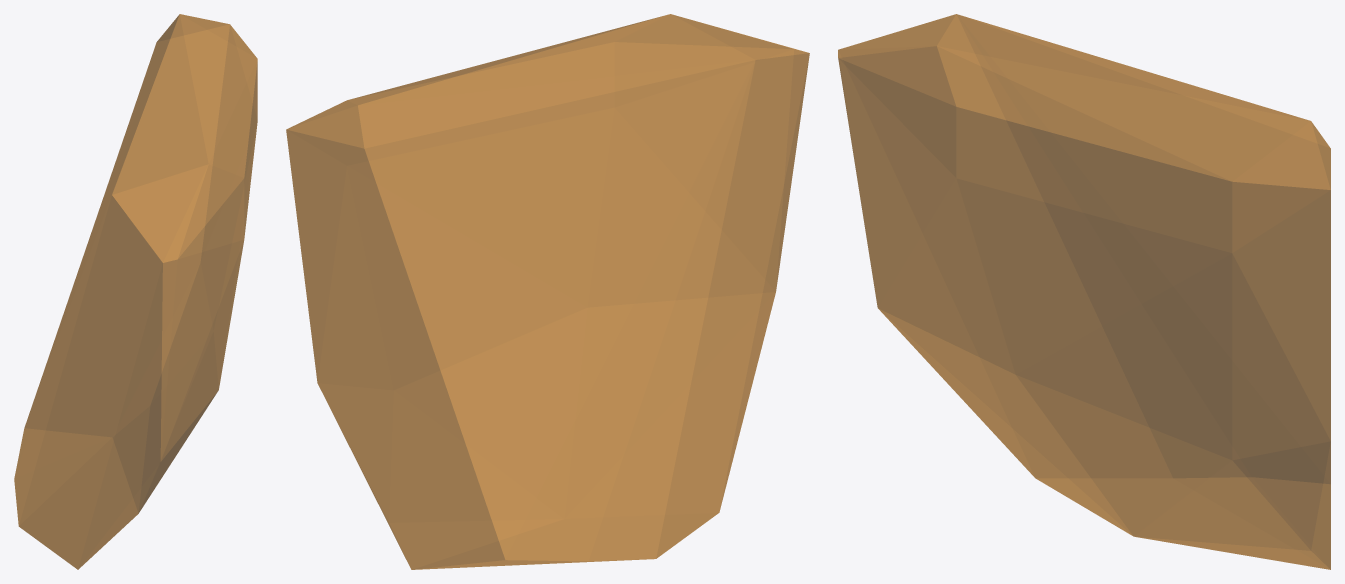
The picture shows the model from 3 angles, left to right: view 1: azimuth 30°, elevation 25°; view 2: azimuth 150°, elevation 25°; view 3: azimuth 270°, elevation 25°; orthographic projection. The views are drawn at different scales.
Visible parts, largest first — view 1: Shape_IndexedFaceSet.011_Shape_IndexedFaceSet.11432; view 2: Shape_IndexedFaceSet.011_Shape_IndexedFaceSet.11432; view 3: Shape_IndexedFaceSet.011_Shape_IndexedFaceSet.11432.
Part boxes in pixels (x1,y1,x2,y2): Shape_IndexedFaceSet.011_Shape_IndexedFaceSet.11432: (14,14,257,569); Shape_IndexedFaceSet.011_Shape_IndexedFaceSet.11432: (286,14,809,569); Shape_IndexedFaceSet.011_Shape_IndexedFaceSet.11432: (838,14,1330,569).
Size of the model in its own units: 0.0356 by 0.0505 by 0.0468.
